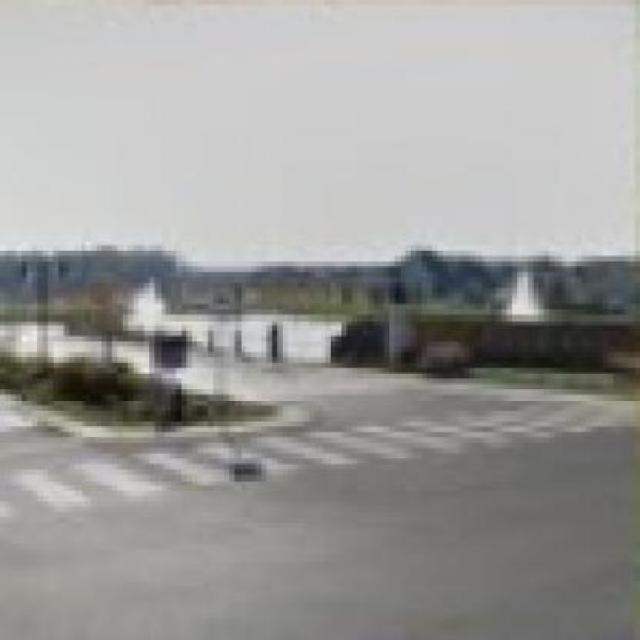crosswalk: (5, 397, 631, 527)
